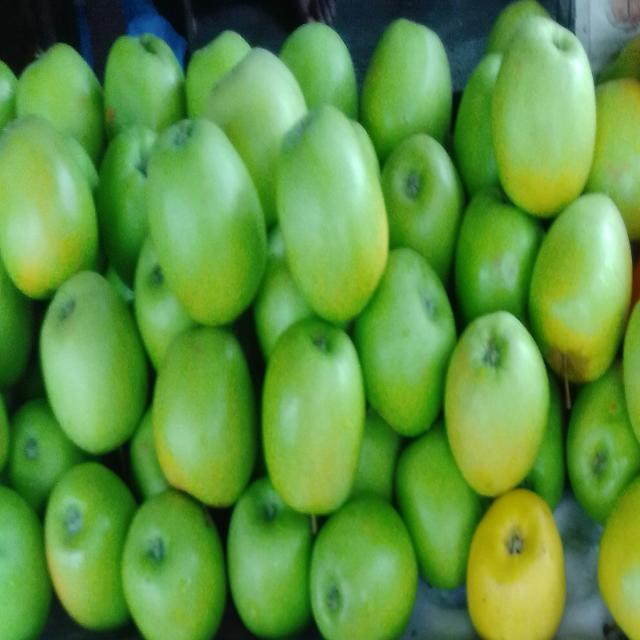Fresh Apple: (272, 118, 388, 322), (423, 317, 550, 493), (35, 273, 147, 470), (147, 130, 260, 317), (530, 198, 640, 368), (275, 328, 373, 514), (492, 32, 592, 206), (153, 320, 250, 487), (10, 122, 100, 285), (308, 515, 414, 640), (230, 490, 318, 638), (468, 495, 557, 640), (125, 503, 208, 640)
